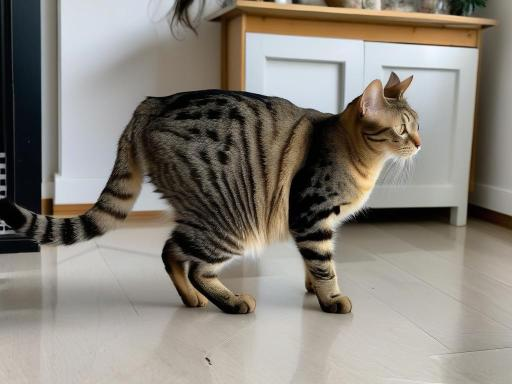cat_standing: (0, 72, 421, 313)
